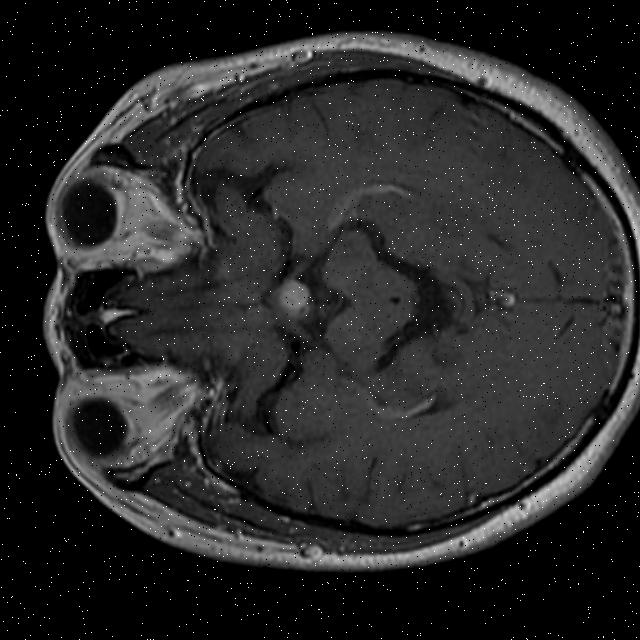Pituitary: (276, 277, 310, 321)
